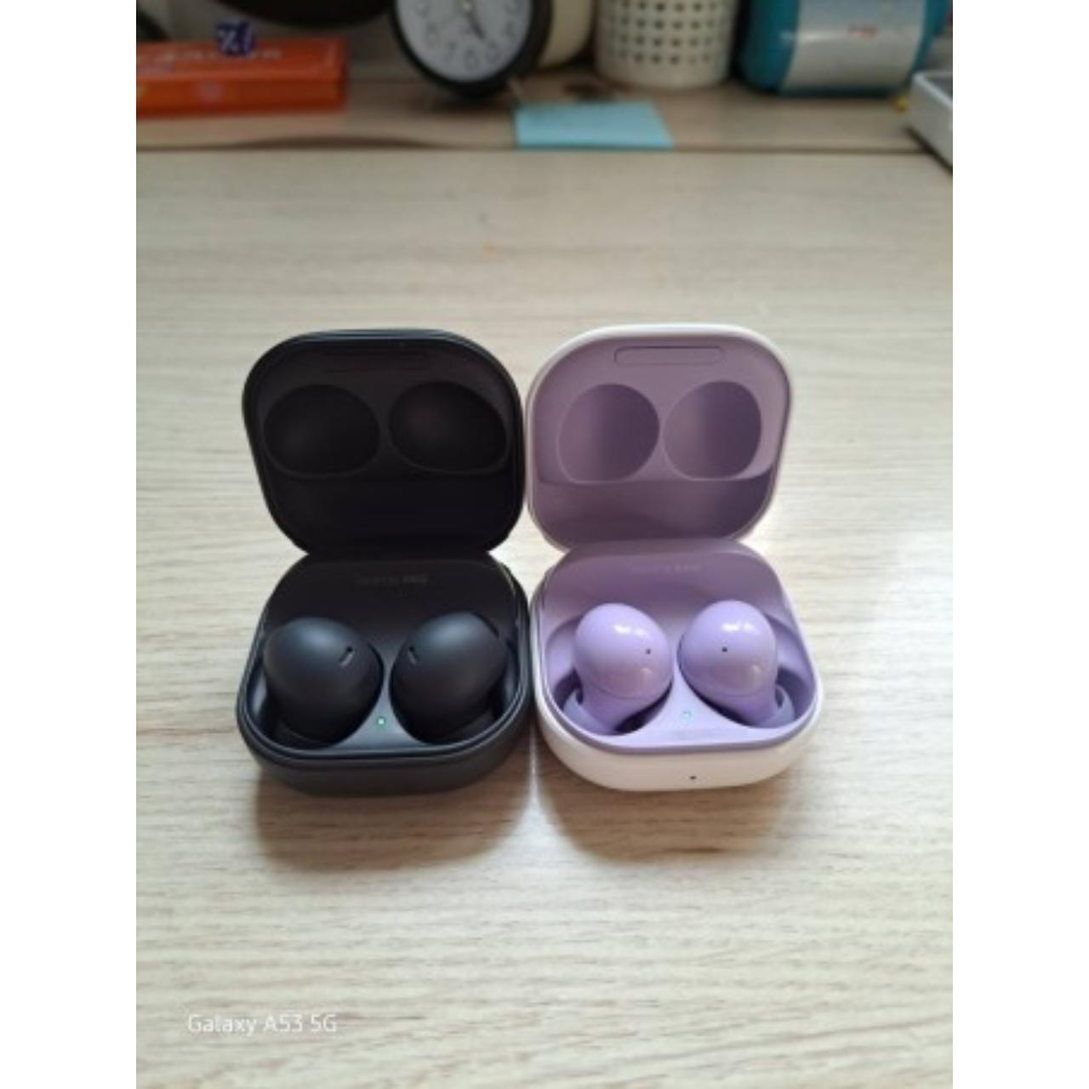Buds: (228, 323, 532, 805), (531, 322, 825, 801)
Buds_Units: (388, 603, 520, 751), (251, 607, 384, 747), (678, 595, 811, 731), (559, 597, 678, 741)
